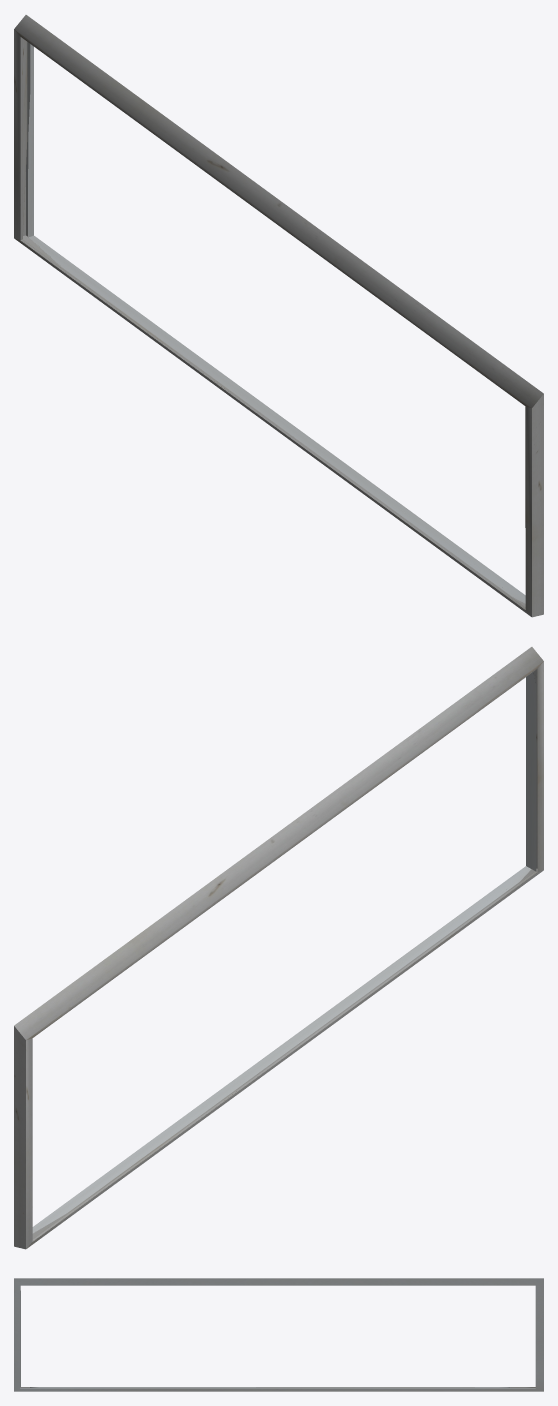
Rendered from Roof_P2_2.fbx.
The picture shows the model from 3 angles, top to bottom: view 1: azimuth 30°, elevation 25°; view 2: azimuth 150°, elevation 25°; view 3: azimuth 270°, elevation 25°; orthographic projection. The views are drawn at different scales.
Parts seen in each view (by area): view 1: Cylinder (47); view 2: Cylinder (47); view 3: Cylinder (47).
Part boxes in pixels (box(x1,y1,x2,y2)): Cylinder (47): box(14, 15, 543, 617); Cylinder (47): box(14, 647, 543, 1249); Cylinder (47): box(14, 1278, 543, 1391).
Size of the model in its own units: 7.47 by 131 by 558.
